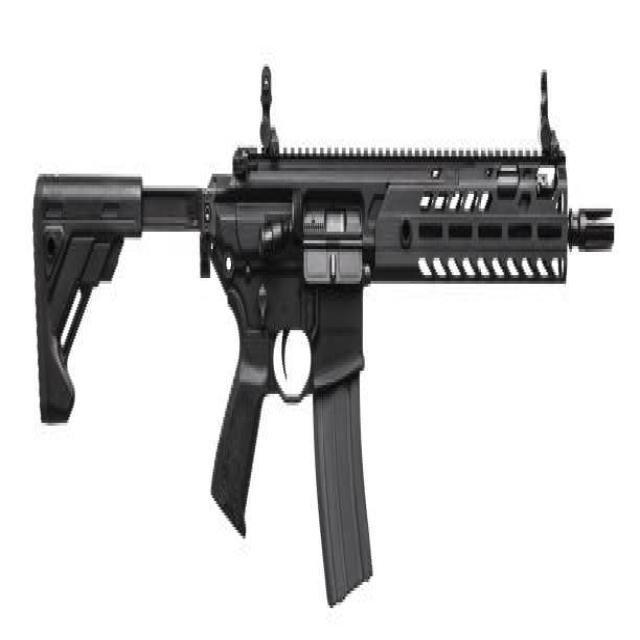rifle: (30, 50, 620, 616)
